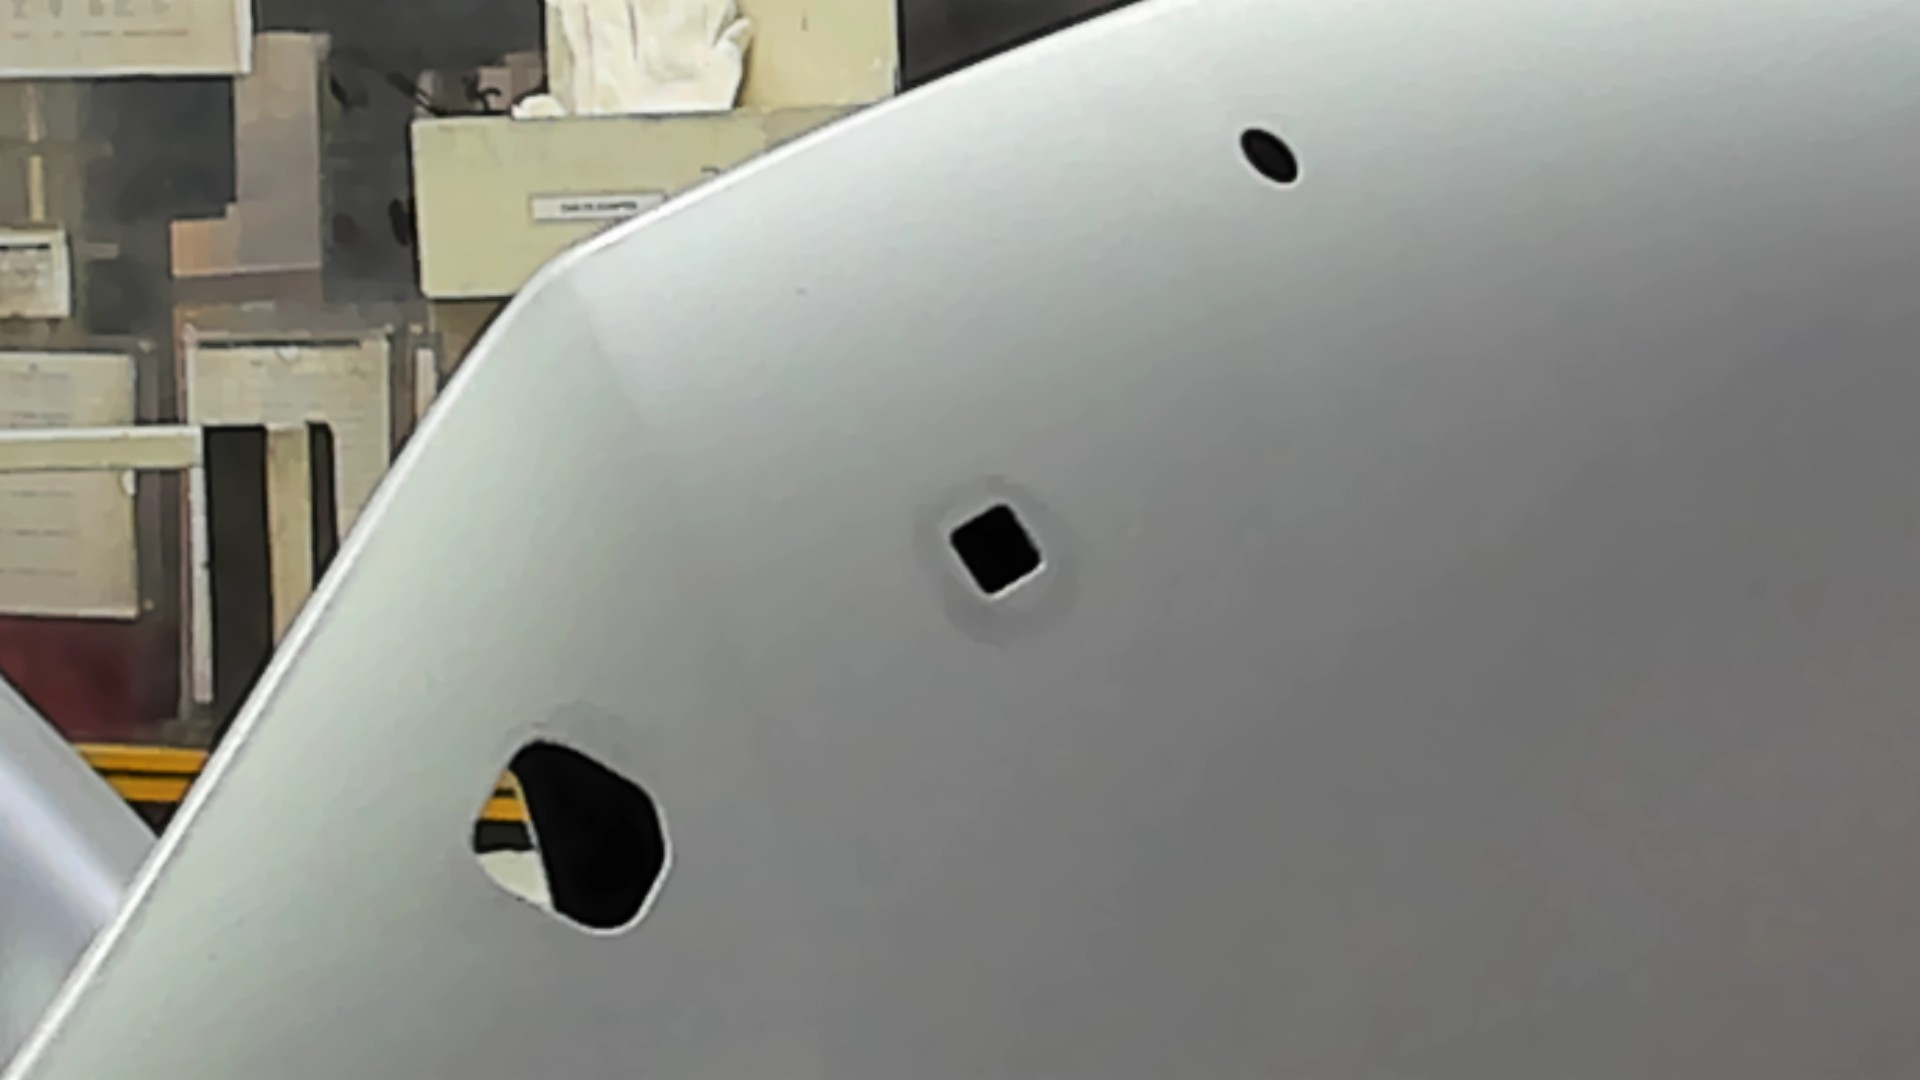capo: (1058, 200, 1920, 1080)
chico: (1234, 123, 1305, 190)
grande: (465, 736, 678, 936)
mediano: (942, 495, 1051, 607)
